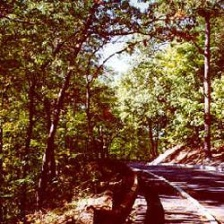neutral: (3, 4, 224, 222)
